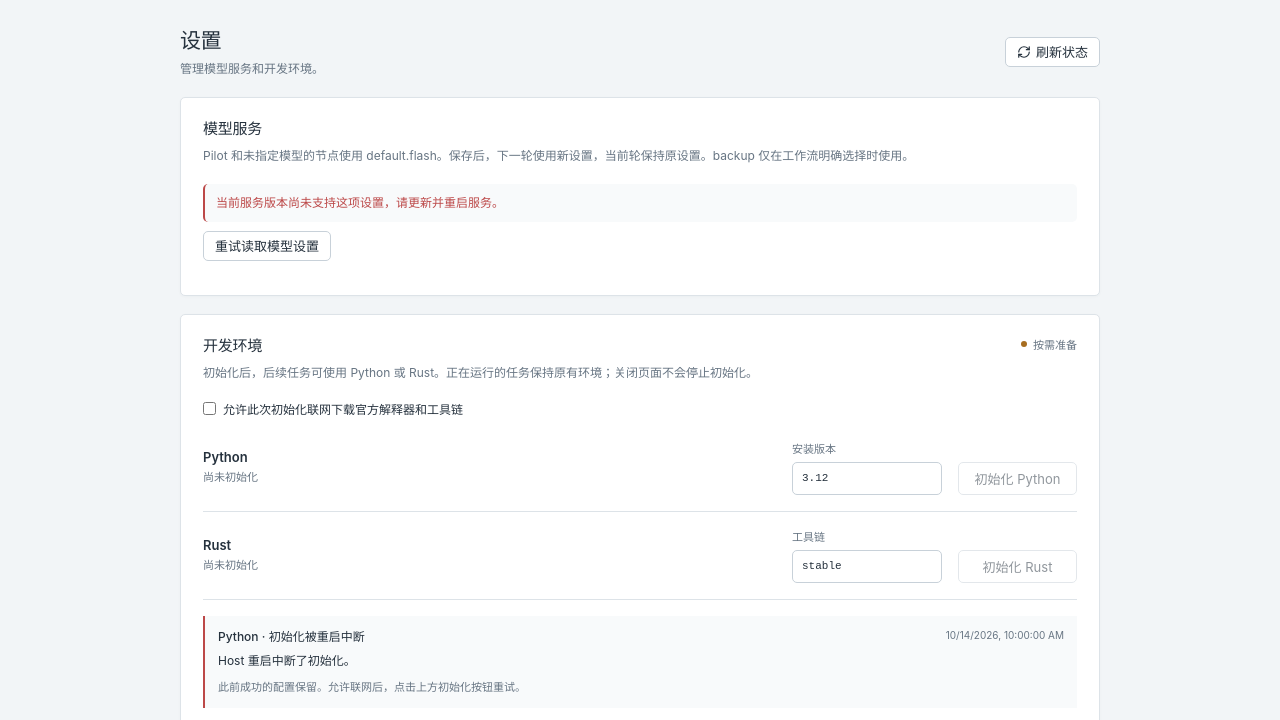
Scenario: Host settings › shows interrupted initialization after reopening and leaves retry available
The width and height of the screenshot is (1280, 720).
Click the checkbox labelled "允许此次初始化联网下载官方解释器和工具链": (210, 408) [203,402,216,415]
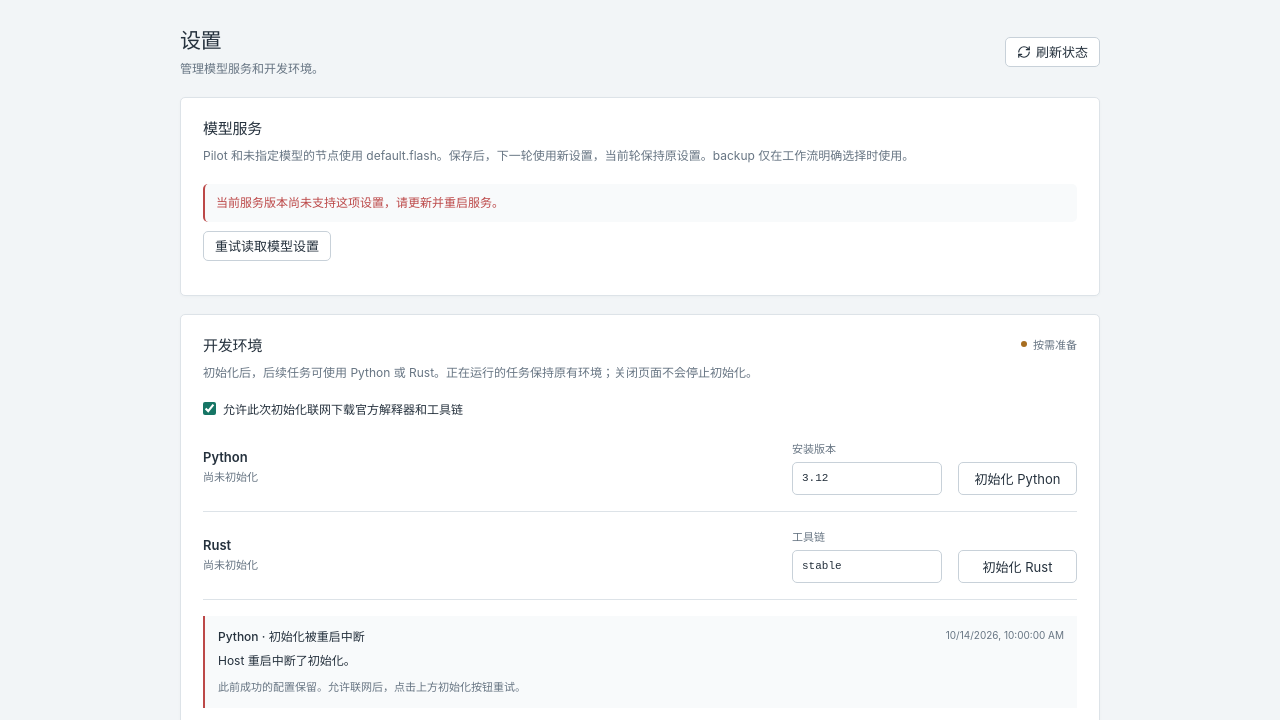
Now the button "初始化 Python" is enabled, box [958,462,1077,495]
